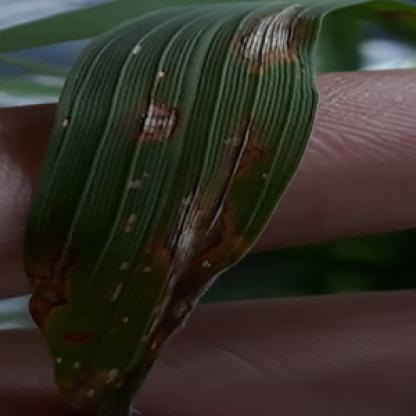Rice blast: (144, 118, 285, 344), (16, 248, 83, 348), (235, 1, 305, 83), (134, 90, 176, 148)
